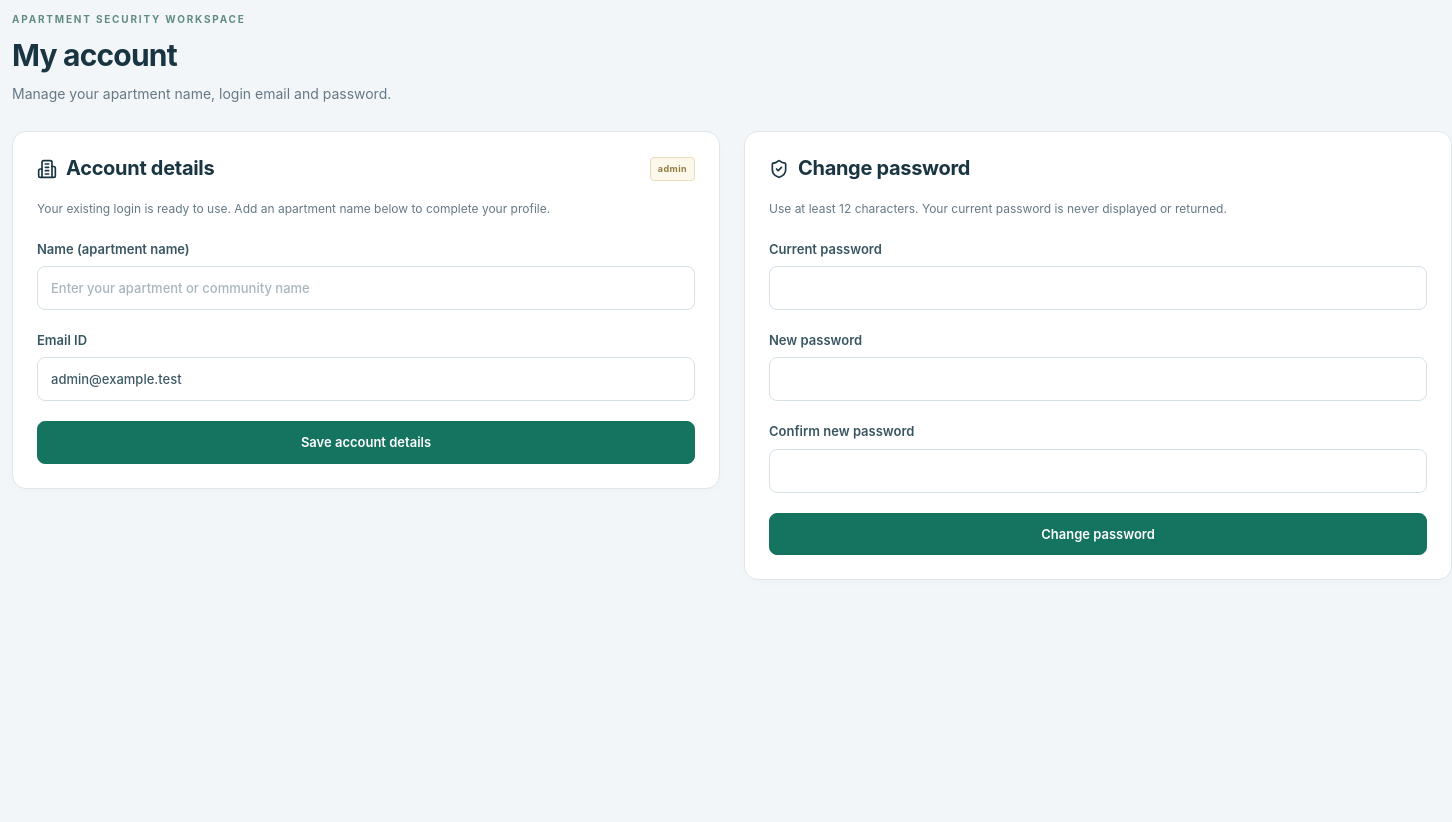
Test: lets an existing admin add an apartment name without changing the login or password
Expected: the field labelled "Email ID" holds "admin@example.test", [37,357,695,401]
In the field labelled "Name (apartment name)": (366,288) [37,266,695,310], type "Lake View"
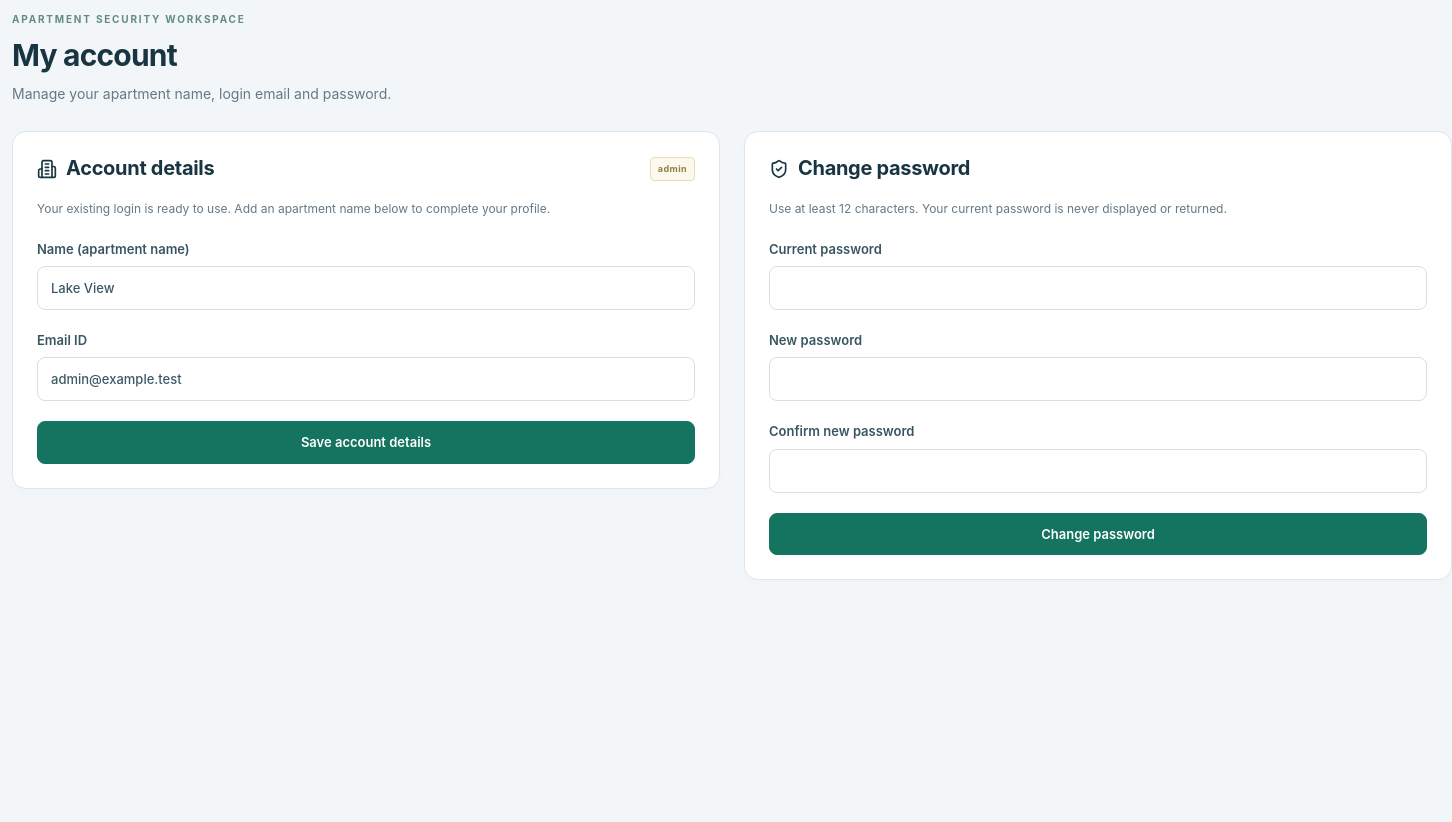
Click the button "Save account details": (366,443) [37,422,695,464]
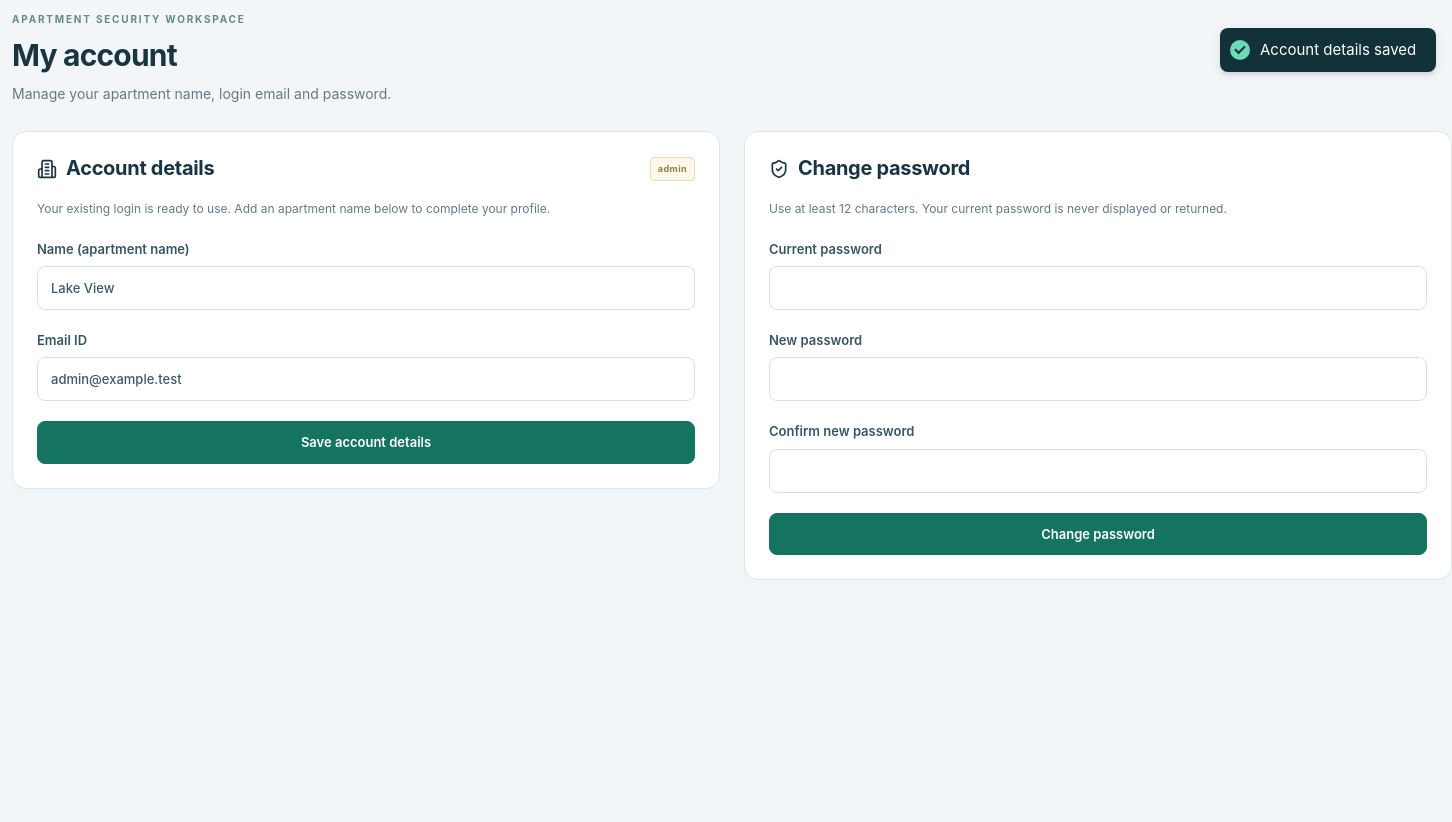
Expected: the text "Account details saved" is shown, [1260,40,1416,60]
